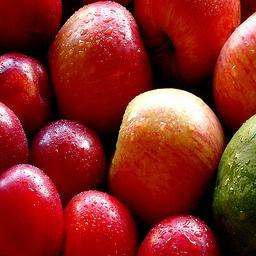apple: (108, 88, 224, 217), (46, 3, 152, 140), (135, 1, 243, 86), (29, 119, 106, 198), (1, 163, 65, 254), (211, 11, 256, 132), (64, 190, 138, 256), (1, 52, 53, 136), (138, 213, 219, 254), (1, 102, 29, 174)
